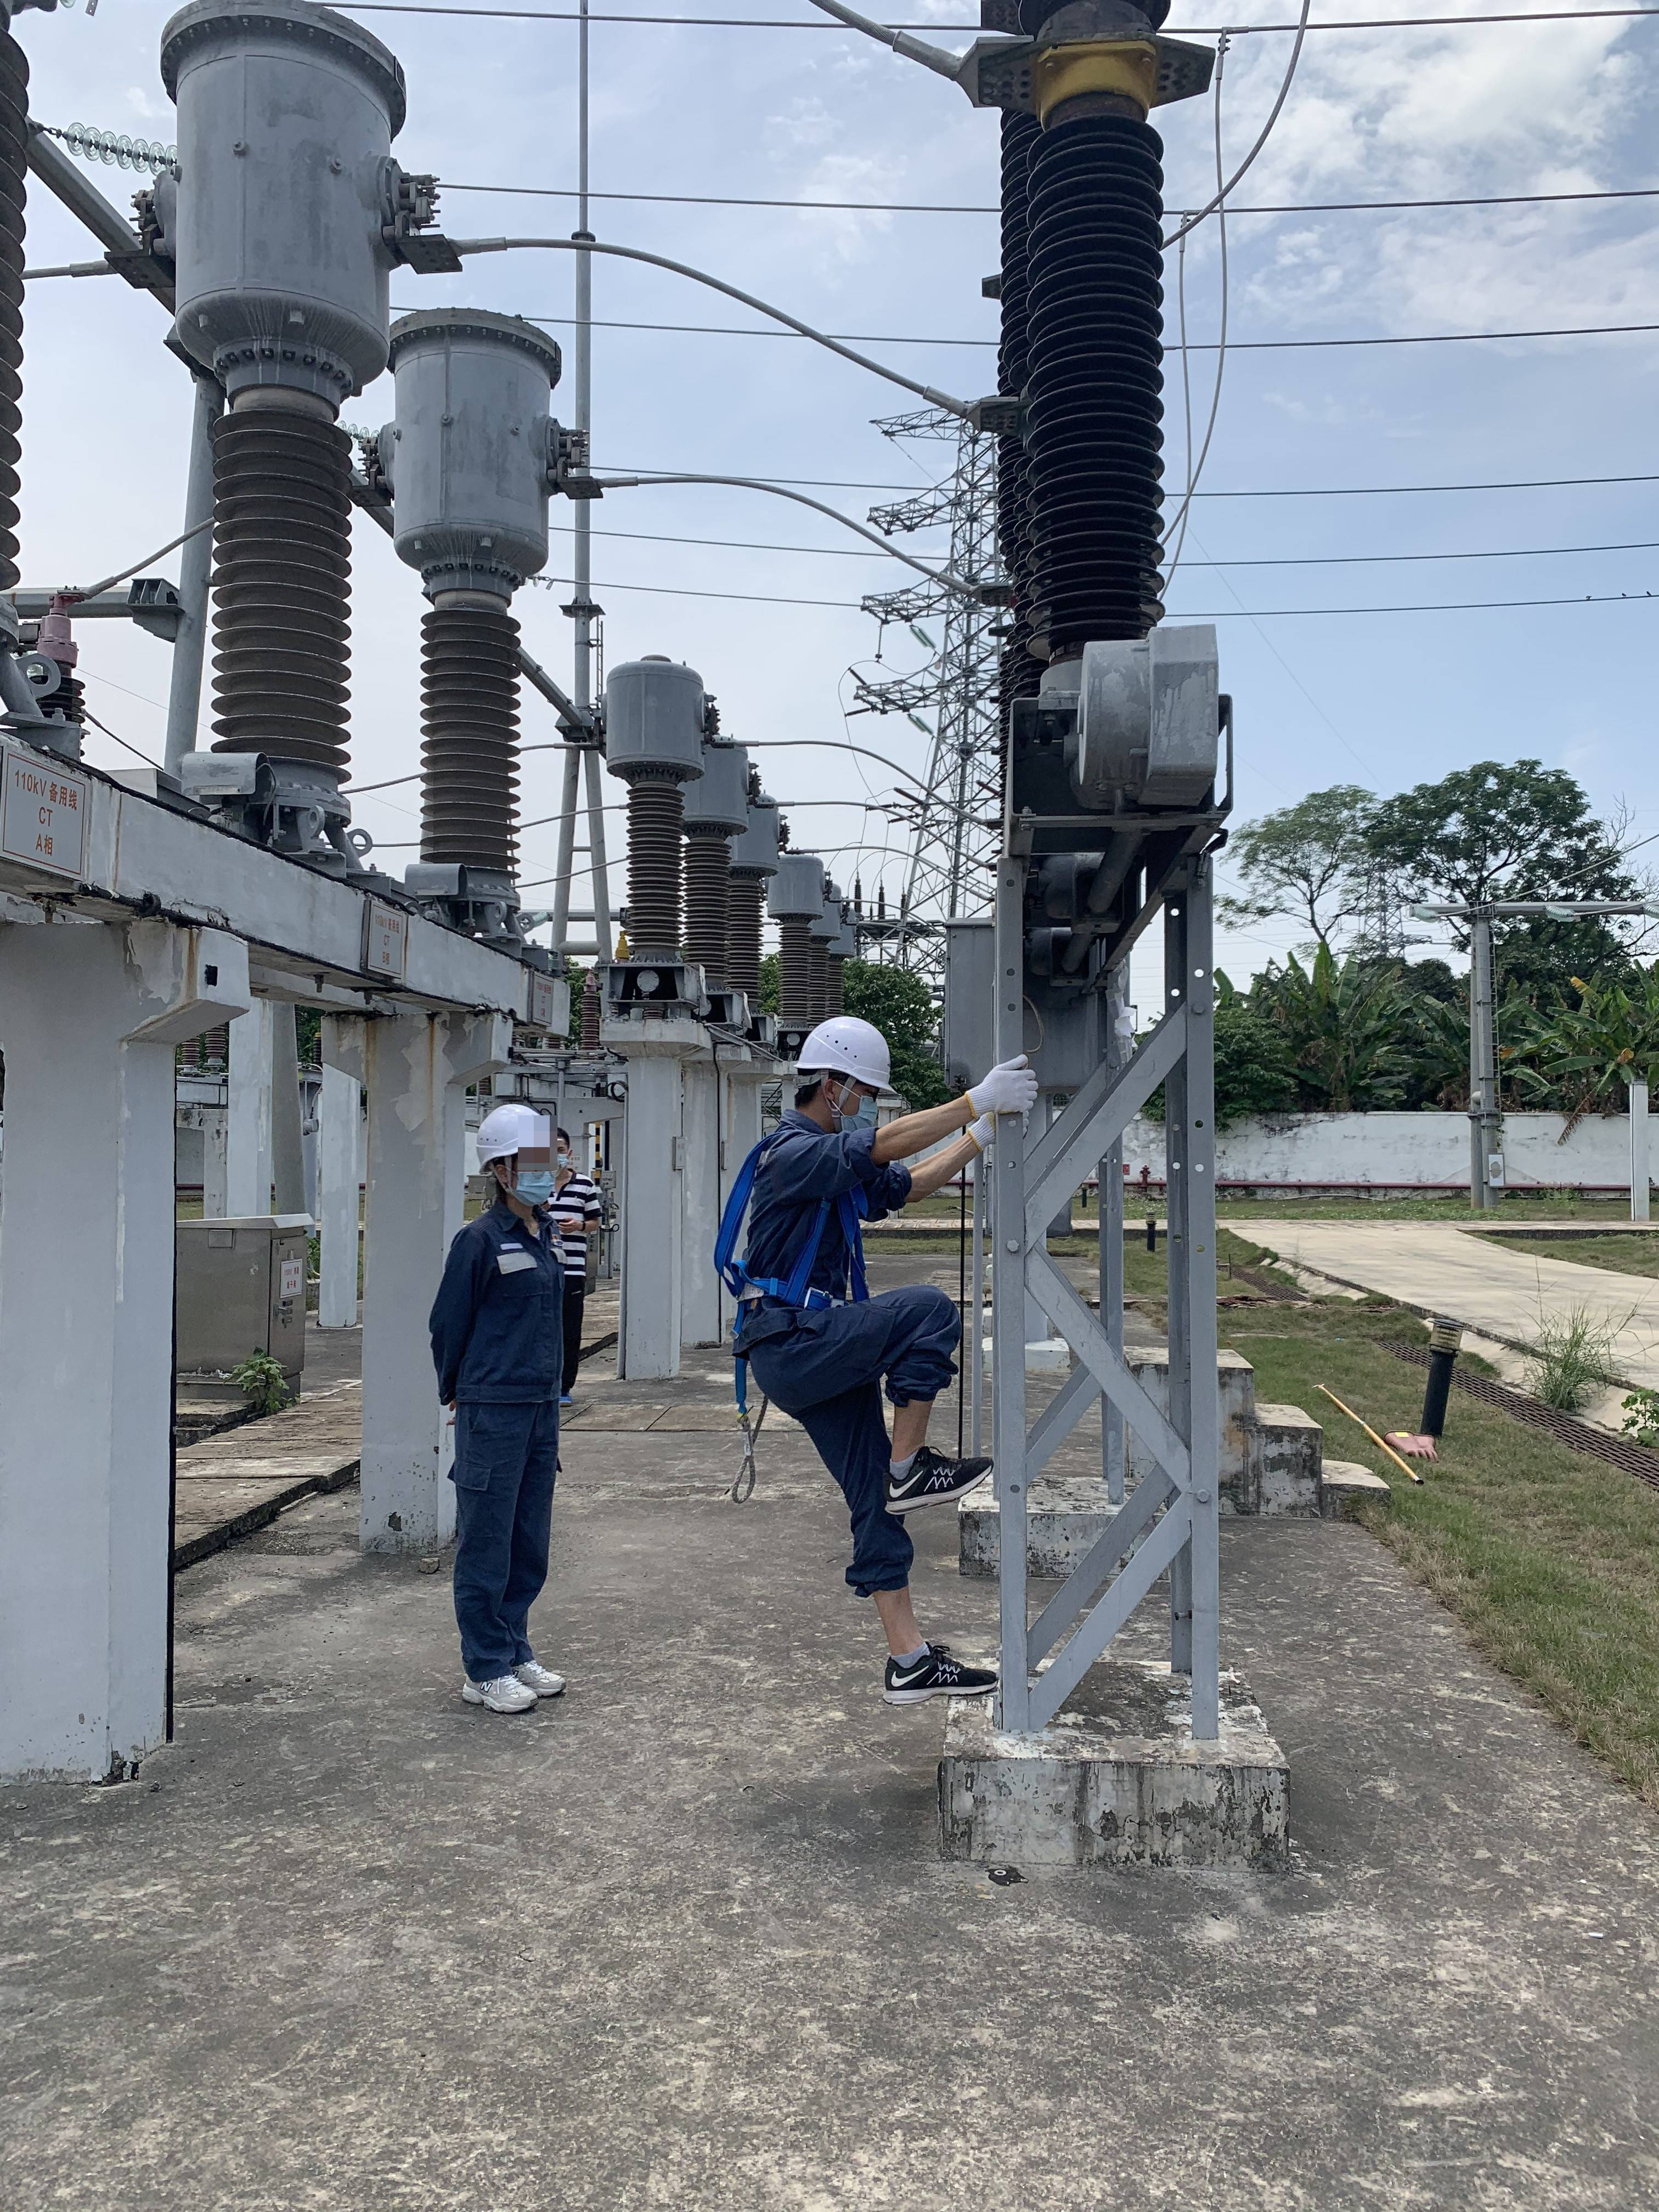downsuit: (728, 1339, 969, 1588), (439, 1421, 570, 1676)
upsuit: (420, 1212, 599, 1411), (728, 1116, 904, 1278)
wrongbottom: (843, 1561, 943, 1674), (864, 1376, 964, 1487)
wrongtop: (866, 1068, 1000, 1198)
